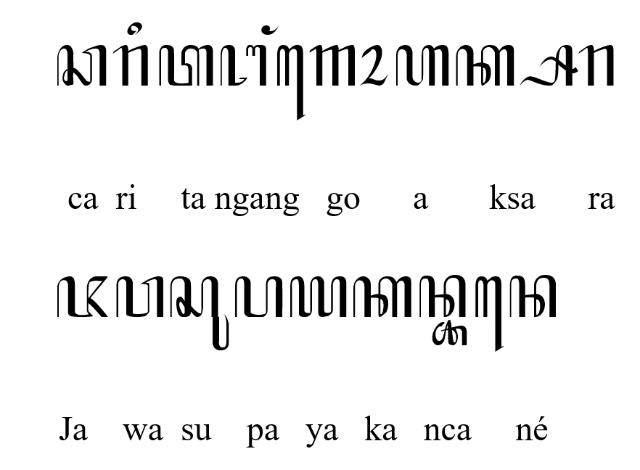_c: (432, 319, 468, 347)
_s: (518, 44, 578, 86)
c: (56, 44, 108, 87)
e1: (474, 275, 504, 353), (276, 44, 306, 120)
g: (309, 45, 356, 87)
h: (394, 44, 450, 87)
i: (126, 21, 142, 36)
j: (55, 274, 108, 320), (116, 275, 164, 319)
k: (352, 274, 412, 318), (455, 45, 515, 88)
n: (419, 274, 467, 320), (509, 275, 558, 319)
ng: (261, 23, 279, 35)
nga: (220, 44, 268, 87)
o: (358, 45, 388, 88)
p: (234, 276, 284, 318)
r: (113, 44, 149, 87), (579, 44, 615, 87)
su: (169, 275, 229, 351)
t: (158, 44, 215, 87)
y: (290, 275, 348, 318)
